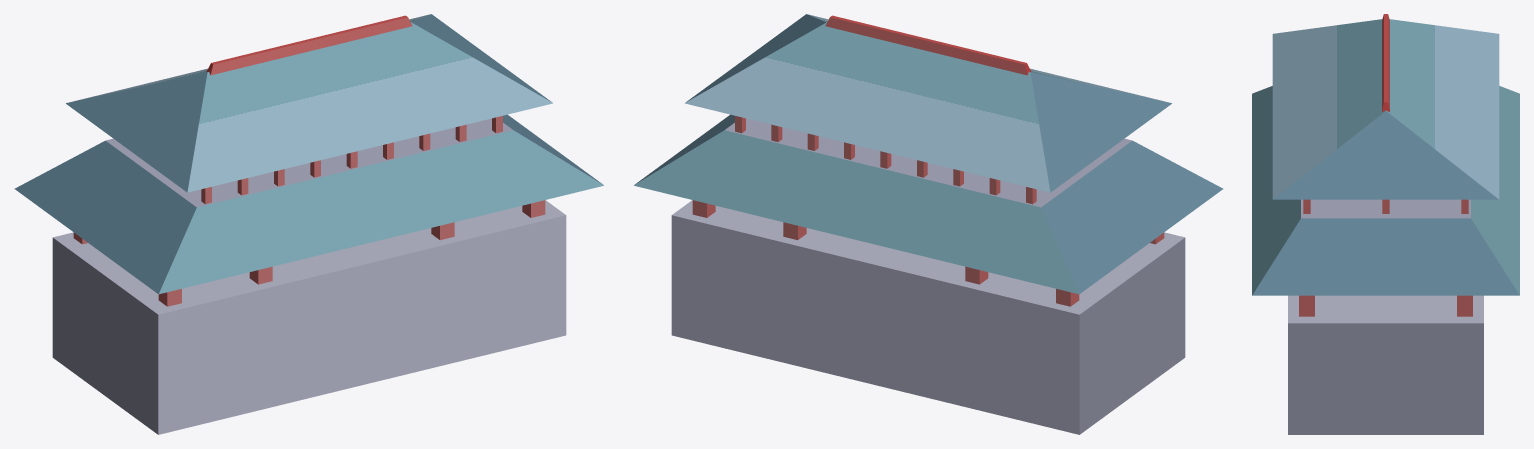
Rendered from house_bg_d.fbx.
3 renders of one model, left to right at view 1: azimuth 30°, elevation 25°; view 2: azimuth 150°, elevation 25°; view 3: azimuth 270°, elevation 25°, orthographic. The views are drawn at different scales.
Parts seen in each view (by area): view 1: house_bg_d; view 2: house_bg_d; view 3: house_bg_d.
Boxes of the visible parts, x1,y1,x2,y2 form: house_bg_d: (14,14,603,434); house_bg_d: (634,14,1223,434); house_bg_d: (1252,14,1519,434).
Size of the model in its own units: 9.82 by 6.44 by 5.5.
Materials: 1 (1 with a texture image).
